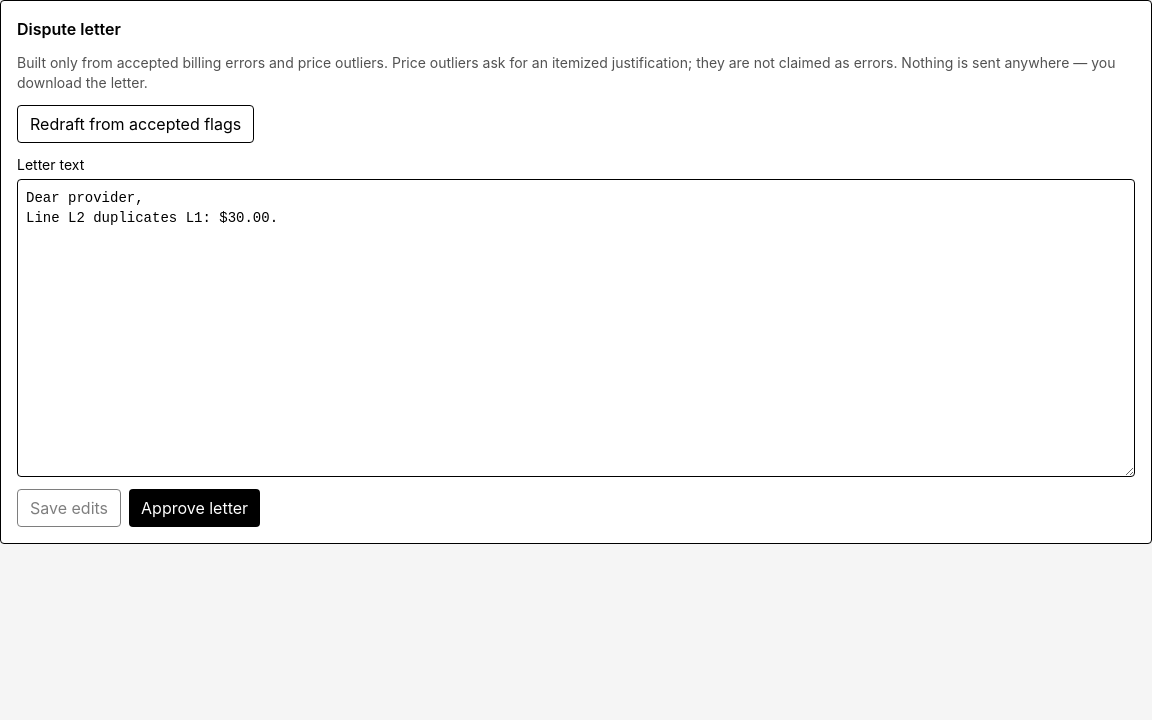
Scenario: an edit that adds a number shows the server's reason
The width and height of the screenshot is (1152, 720).
Type " Pay $999.00 now." into the text box labelled "Letter text" at coordinates (576, 328), box [17, 179, 1135, 477]
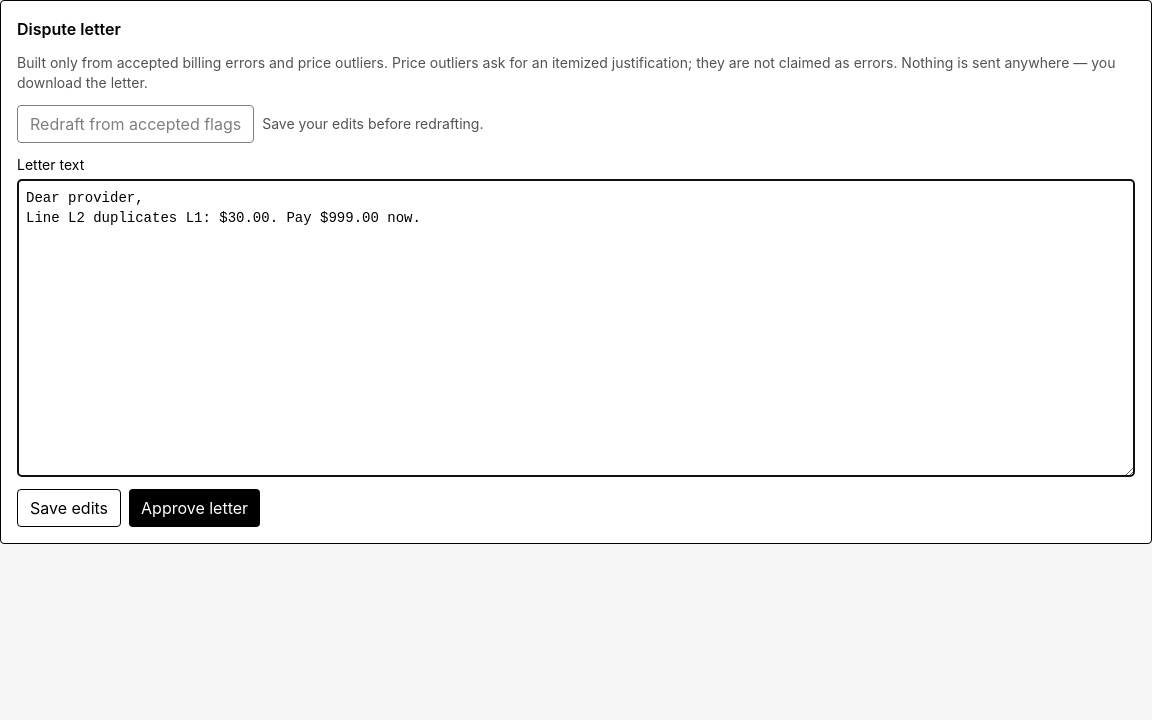
Click the button "Save edits" at coordinates (69, 508), box [17, 489, 121, 527]
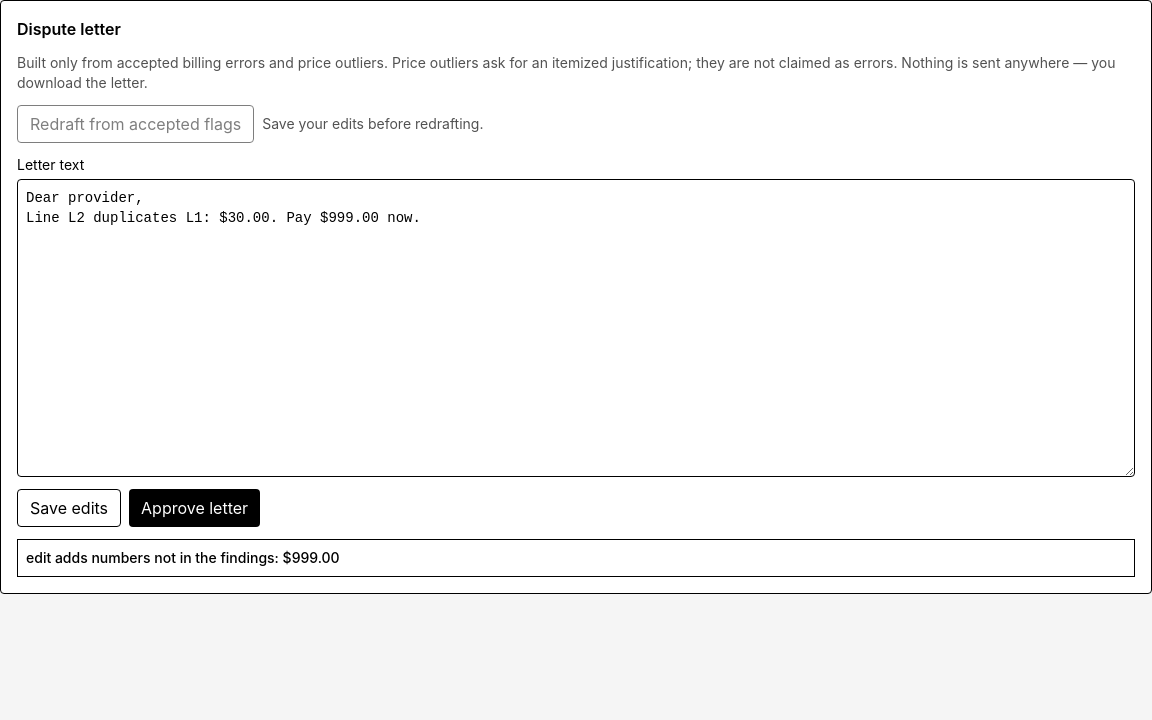
Expected: the message reads "edit adds numbers not in the findings: $999.00", [26, 549, 340, 566]
